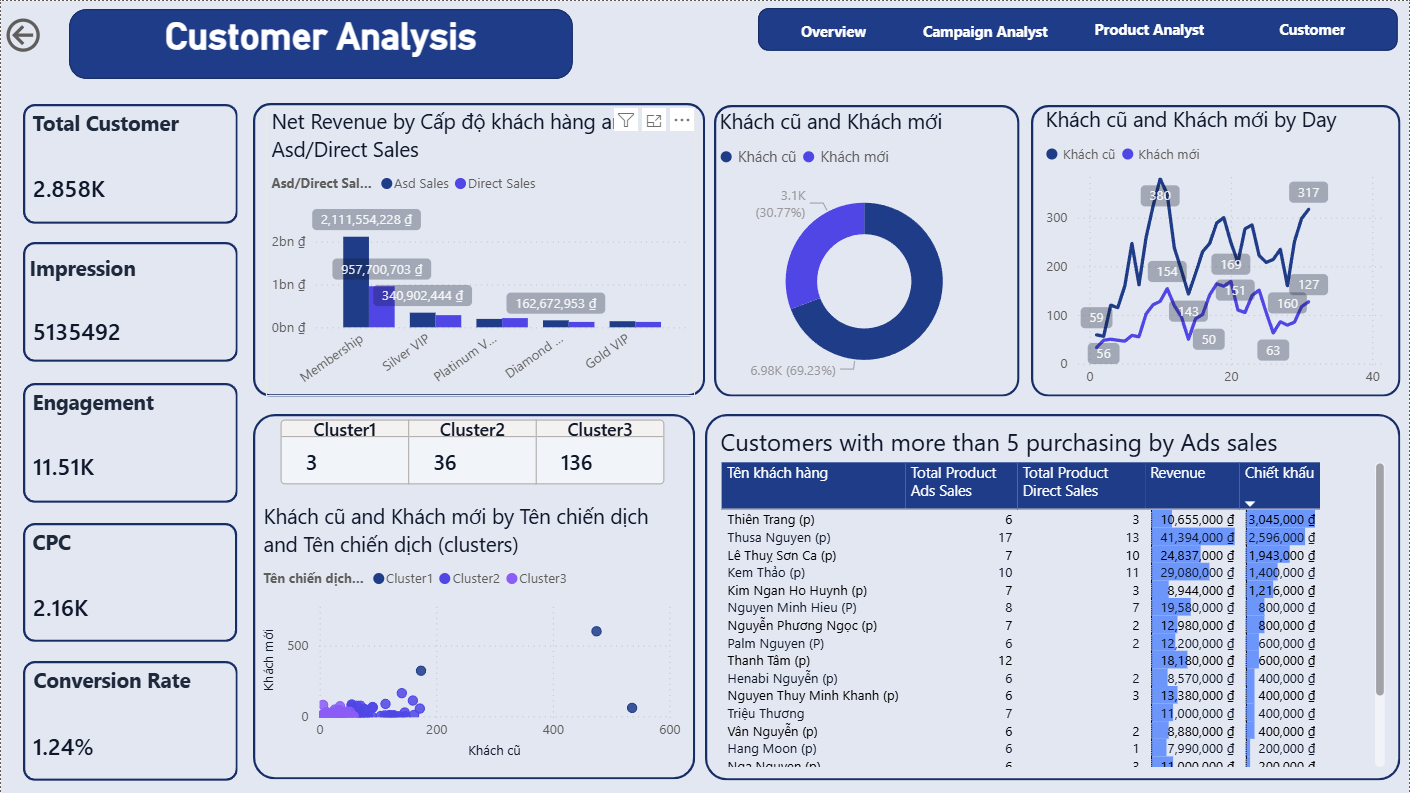

The dashboard page shown, as its layout file describes it:
{"tool":"powerbi","page":{"name":"Customer","canvas":[1280,720],"ordinal":3},"visuals":[{"type":"shape","box":[19.8,93.6,195.4,108.9],"z":0,"group":"g5"},{"type":"shape","box":[19.9,219.2,195.4,108.9],"z":0,"group":"g2"},{"type":"shape","box":[19.8,347.7,195.4,108.9],"z":0,"group":"g4"},{"type":"shape","box":[229.3,375.2,402.1,332.2],"z":0},{"type":"shape","box":[19.8,474.2,194.7,108.1],"z":0,"group":"g3"},{"type":"shape","box":[20.3,599.7,195.4,108.9],"z":0,"group":"g1"},{"type":"shape","box":[688.4,6.3,581.6,38.9],"z":1000,"group":"g6"},{"type":"cardVisual","fields":{"Data":["Count(fact_order.ID)"]},"box":[0,136.8,153.1,64.7],"z":1000,"group":"g5"},{"type":"cardVisual","fields":{"Data":["measure.Impressions"]},"box":[0,267.3,191.7,62.8],"z":1000,"group":"g2"},{"type":"cardVisual","fields":{"Data":["measure.Engagement"]},"box":[0,385.6,153.1,70.1],"z":1000,"group":"g4"},{"type":"cardVisual","fields":{"Data":["measure.CPC Calculated"]},"box":[0,517.2,153.4,64.2],"z":1000,"group":"g3"},{"type":"group","id":"g1","title":"Group 2","box":[0,598.8,215.9,109.5],"z":1000},{"type":"cardVisual","fields":{"Data":["measure.Conversion Rate"]},"box":[0,643.6,197.2,63.9],"z":1000,"group":"g1"},{"type":"textbox","box":[24,92.7,184.4,56.1],"z":2000,"group":"g5"},{"type":"group","id":"g2","title":"Group 2","box":[0,219.2,215.7,111.1],"z":2000},{"type":"textbox","box":[20.5,225,184.4,56.1],"z":2000,"group":"g2"},{"type":"textbox","box":[24,346.8,184.4,56.1],"z":2000,"group":"g4"},{"type":"textbox","box":[23.9,473.3,183.9,55.7],"z":2000,"group":"g3"},{"type":"textbox","box":[24.5,598.8,184.4,56.1],"z":2000,"group":"g1"},{"type":"group","id":"g3","title":"Group 2","box":[0,473.3,214.5,109],"z":3000},{"type":"actionButton","box":[832.9,11.3,124.4,30.1],"z":4000,"group":"g6"},{"type":"group","id":"g4","title":"Group 2","box":[0,346.8,215.7,110],"z":4000},{"type":"shape","box":[640.3,375.2,632.2,333.1],"z":5000},{"type":"shape","box":[61.5,7.4,458.2,63.6],"z":6000},{"type":"actionButton","box":[982.3,10.1,124.4,30.1],"z":6000,"group":"g6"},{"type":"shape","box":[229.3,93.1,411,266.9],"z":7000},{"type":"actionButton","box":[1130.6,10.1,124.4,30.1],"z":8000,"group":"g6"},{"type":"shape","box":[936.7,94.9,335.8,265.1],"z":8000},{"type":"actionButton","box":[0,10.8,61.9,40.3],"z":9000},{"type":"clusteredColumnChart","fields":{"Y":["measure.Net Revenue"],"Category":["fact_order.Cấp độ khách hàng"],"Series":["fact_order.Asd/Direct Sales "]},"box":[240.7,96.3,390,263.3],"z":10000},{"type":"lineChart","fields":{"Category":["dim_date.Date.Variation.Date Hierarchy.Day"],"Y":["Sum(fact_mkt_camp_by_sku_cost.Khách cũTHeo AM)","Sum(fact_mkt_camp_by_sku_cost.Khách mớiTheo AM)"]},"box":[944.8,94.9,317,265.1],"z":11000},{"type":"tableEx","title":"Customers with more than 5 purchasing by Ads sales","fields":{"Values":["fact_order.Tên khách hàng","measure.Total Product Ads Sales","measure.Total Product Direct Sales","measure.Net Revenue","Sum(fact_order.Chiết khấu)"]},"box":[649.3,386,614.3,315.2],"z":12000},{"type":"textbox","box":[49.7,7.4,481.8,63.6],"z":13000},{"type":"group","id":"g5","title":"Group 2","box":[0,92.7,215.7,110],"z":14000},{"type":"shape","box":[648.4,94.9,277.6,265.1],"z":15000},{"type":"donutChart","fields":{"Y":["Sum(fact_mkt_camp_by_sku_cost.Khách cũTHeo AM)","Sum(fact_mkt_camp_by_sku_cost.Khách mớiTheo AM)"]},"box":[648.4,96.7,273.1,263.3],"z":16000},{"type":"group","id":"g6","title":"Group 4","box":[688.4,6.3,581.6,38.9],"z":17000},{"type":"scatterChart","fields":{"X":["Sum(fact_mkt_camp_by_sku_cost.Khách cũTHeo AM)"],"Y":["Sum(fact_mkt_camp_by_sku_cost.Khách mớiTheo AM)"],"Series":["dim_mkt_camp_cost.Tên chiến dịch (clusters)"],"Category":["dim_mkt_camp_cost.Tên chiến dịch"]},"box":[233.8,455.8,389,237.7],"z":18000},{"type":"cardVisual","fields":{"Rows":["dim_mkt_camp_cost.Tên chiến dịch (clusters)"],"Data":["Count(dim_mkt_camp_cost.Tên chiến dịch)"]},"box":[228.9,375.3,401.8,69.7],"z":19000},{"type":"actionButton","box":[694.7,11.3,124.4,30.1],"z":29000,"group":"g6"}]}

Visuals, with their boxes in screenshot pixels (x1, y1, x2, y2), scaled from the page's 1280x720 canvas onto the 1410x793 screenshot:
shape: (x1=22, y1=103, x2=237, y2=223)
shape: (x1=22, y1=241, x2=237, y2=361)
shape: (x1=22, y1=383, x2=237, y2=503)
shape: (x1=253, y1=413, x2=696, y2=779)
shape: (x1=22, y1=522, x2=236, y2=641)
shape: (x1=22, y1=661, x2=238, y2=780)
shape: (x1=758, y1=7, x2=1399, y2=50)
cardVisual - Count(fact_order.ID): (x1=0, y1=151, x2=169, y2=222)
cardVisual - measure.Impressions: (x1=0, y1=294, x2=211, y2=364)
cardVisual - measure.Engagement: (x1=0, y1=425, x2=169, y2=502)
cardVisual - measure.CPC Calculated: (x1=0, y1=570, x2=169, y2=640)
"Group 2" group: (x1=0, y1=660, x2=238, y2=780)
cardVisual - measure.Conversion Rate: (x1=0, y1=709, x2=217, y2=779)
textbox: (x1=26, y1=102, x2=230, y2=164)
"Group 2" group: (x1=0, y1=241, x2=238, y2=364)
textbox: (x1=23, y1=248, x2=226, y2=310)
textbox: (x1=26, y1=382, x2=230, y2=444)
textbox: (x1=26, y1=521, x2=229, y2=583)
textbox: (x1=27, y1=660, x2=230, y2=721)
"Group 2" group: (x1=0, y1=521, x2=236, y2=641)
actionButton: (x1=917, y1=12, x2=1055, y2=46)
"Group 2" group: (x1=0, y1=382, x2=238, y2=503)
shape: (x1=705, y1=413, x2=1402, y2=780)
shape: (x1=68, y1=8, x2=572, y2=78)
actionButton: (x1=1082, y1=11, x2=1219, y2=44)
shape: (x1=253, y1=103, x2=705, y2=397)
actionButton: (x1=1245, y1=11, x2=1382, y2=44)
shape: (x1=1032, y1=105, x2=1402, y2=397)
actionButton: (x1=0, y1=12, x2=68, y2=56)
clusteredColumnChart - measure.Net Revenue x fact_order.Cấp độ khách hàng: (x1=265, y1=106, x2=695, y2=396)
lineChart - dim_date.Date.Variation.Date Hierarchy.Day x Sum(fact_mkt_camp_by_sku_cost.Khách cũTHeo AM): (x1=1041, y1=105, x2=1390, y2=397)
"Customers with more than 5 purchasing by Ads sales" tableEx: (x1=715, y1=425, x2=1392, y2=772)
textbox: (x1=55, y1=8, x2=585, y2=78)
"Group 2" group: (x1=0, y1=102, x2=238, y2=223)
shape: (x1=714, y1=105, x2=1020, y2=397)
donutChart - Sum(fact_mkt_camp_by_sku_cost.Khách cũTHeo AM) x Sum(fact_mkt_camp_by_sku_cost.Khách mớiTheo AM): (x1=714, y1=107, x2=1015, y2=397)
"Group 4" group: (x1=758, y1=7, x2=1399, y2=50)
scatterChart - Sum(fact_mkt_camp_by_sku_cost.Khách cũTHeo AM) x Sum(fact_mkt_camp_by_sku_cost.Khách mớiTheo AM): (x1=258, y1=502, x2=686, y2=764)
cardVisual - dim_mkt_camp_cost.Tên chiến dịch (clusters) x Count(dim_mkt_camp_cost.Tên chiến dịch): (x1=252, y1=413, x2=695, y2=490)
actionButton: (x1=765, y1=12, x2=902, y2=46)
